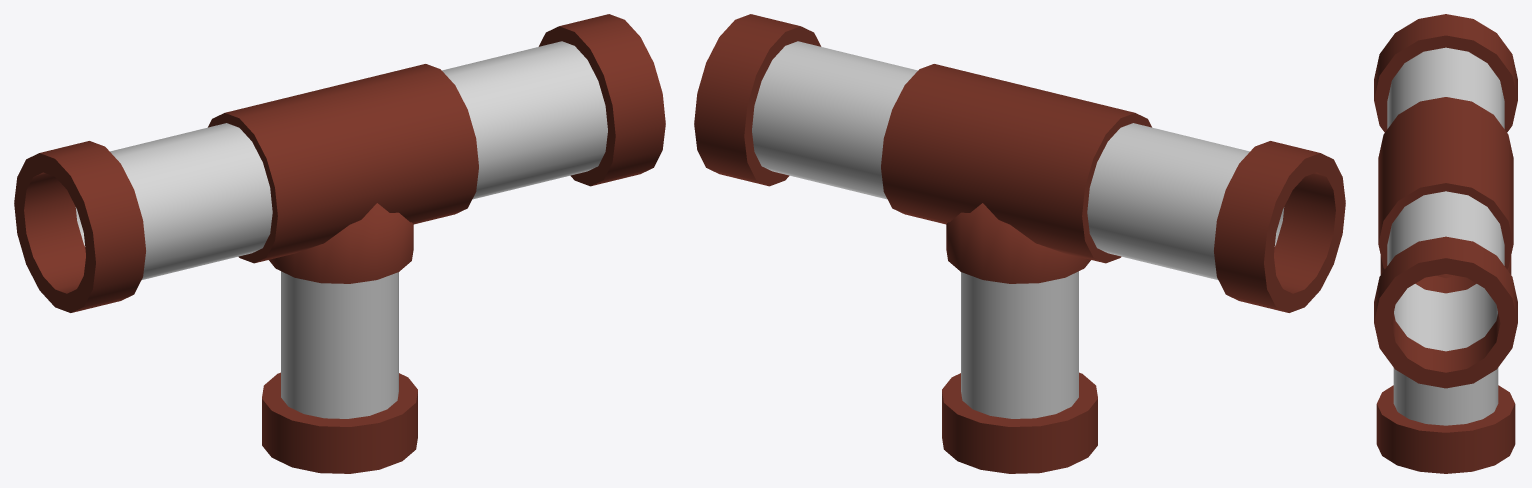
File: 3_Way_Pipe.fbx
3 views of the same model, side by side, from view 1: azimuth 30°, elevation 25°; view 2: azimuth 150°, elevation 25°; view 3: azimuth 270°, elevation 25° (orthographic). The views are drawn at different scales.
Parts seen in each view (by area): view 1: Cylinder.044, Cylinder.010; view 2: Cylinder.044, Cylinder.010; view 3: Cylinder.044, Cylinder.010.
Boxes of the visible parts, x1,y1,x2,y2 form: Cylinder.044: (14,14,665,312); Cylinder.010: (262,203,417,473); Cylinder.044: (694,14,1345,312); Cylinder.010: (942,203,1097,473); Cylinder.044: (1374,14,1517,388); Cylinder.010: (1376,256,1515,473).
Bounding box in the file's own units: 239 × 142 × 59.5.
